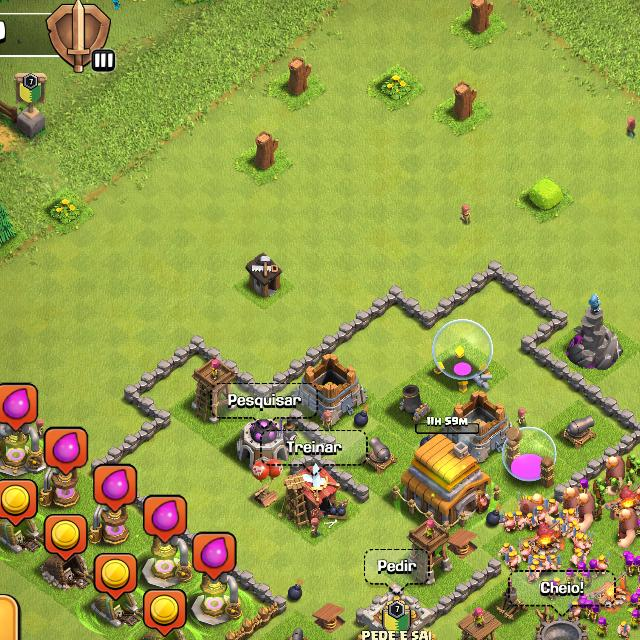Arqueira: (193, 358, 236, 423), (409, 517, 451, 552), (460, 607, 502, 639)
Canhao: (562, 414, 600, 448), (364, 436, 396, 474)
FullCoin: (44, 513, 86, 561), (95, 553, 137, 599), (145, 586, 183, 636), (0, 478, 37, 526)
FullElixir: (42, 427, 88, 475), (93, 464, 137, 514), (144, 496, 188, 542), (192, 532, 236, 578), (0, 384, 38, 429)
